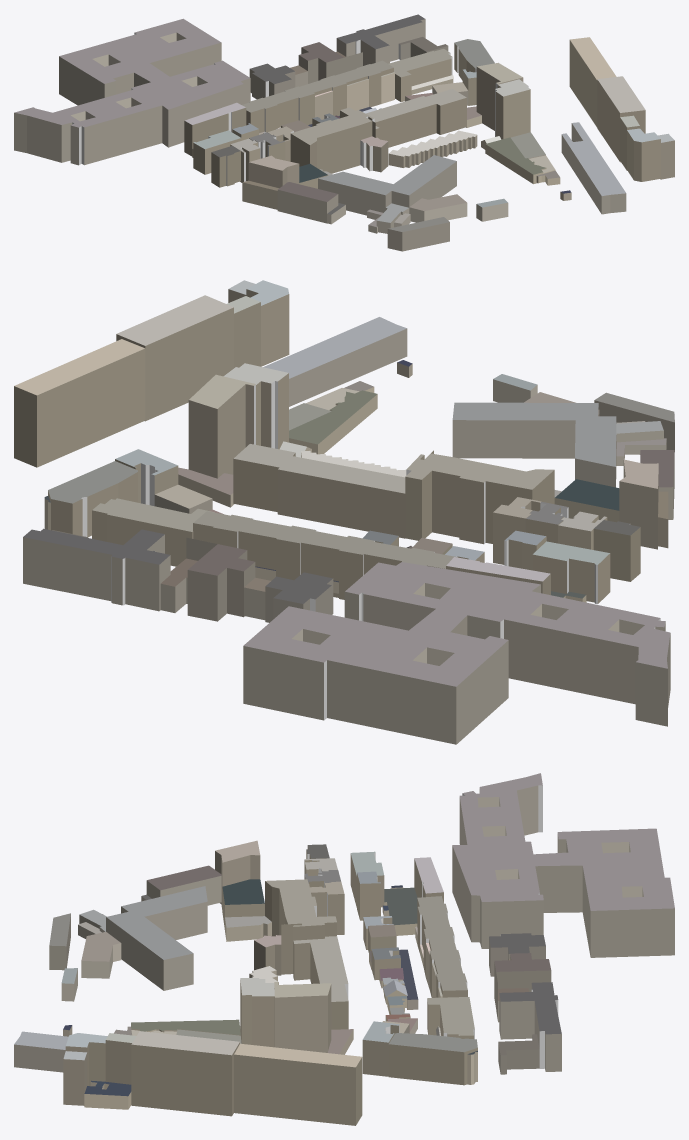
3 renders of one model, top to bottom at view 1: azimuth 30°, elevation 25°; view 2: azimuth 150°, elevation 25°; view 3: azimuth 270°, elevation 25°, orthographic. The views are drawn at different scales.
Parts seen in each view (by area): view 1: tuile; view 2: tuile; view 3: tuile.
Part boxes in pixels (bbox=[...]): tuile: bbox=[14, 14, 674, 251]; tuile: bbox=[14, 280, 674, 744]; tuile: bbox=[14, 773, 674, 1125].
Size of the model in its own units: 342 by 37.52 by 314.
